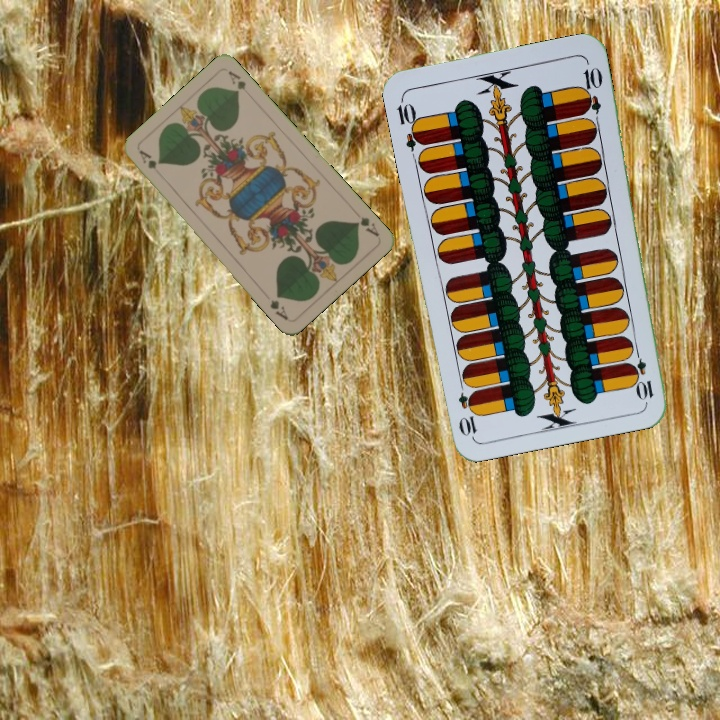E10: (393, 94, 427, 153), (629, 343, 656, 402)
GA: (352, 212, 382, 239), (135, 146, 159, 172)
